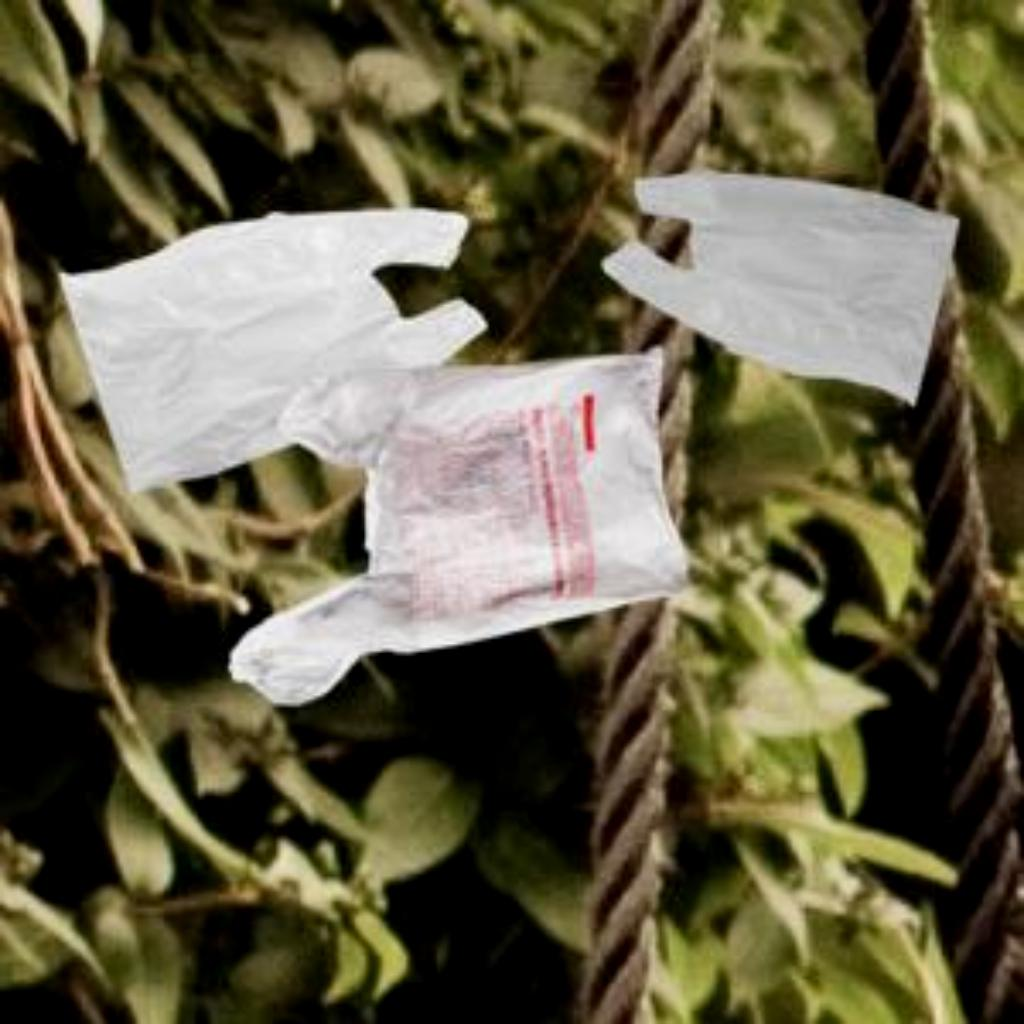garbage: (241, 335, 749, 696), (32, 183, 507, 480), (582, 125, 995, 428)
